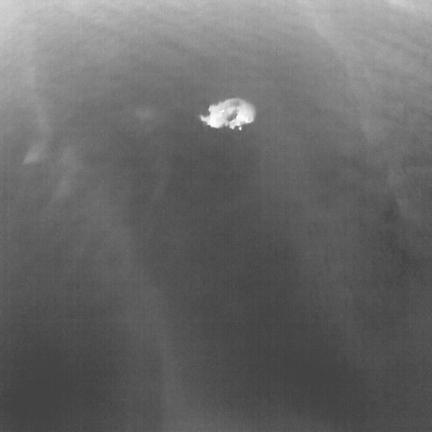flukeprints: (200, 98, 255, 129)
